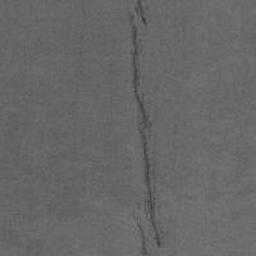Inclusion: (125, 0, 165, 256)
